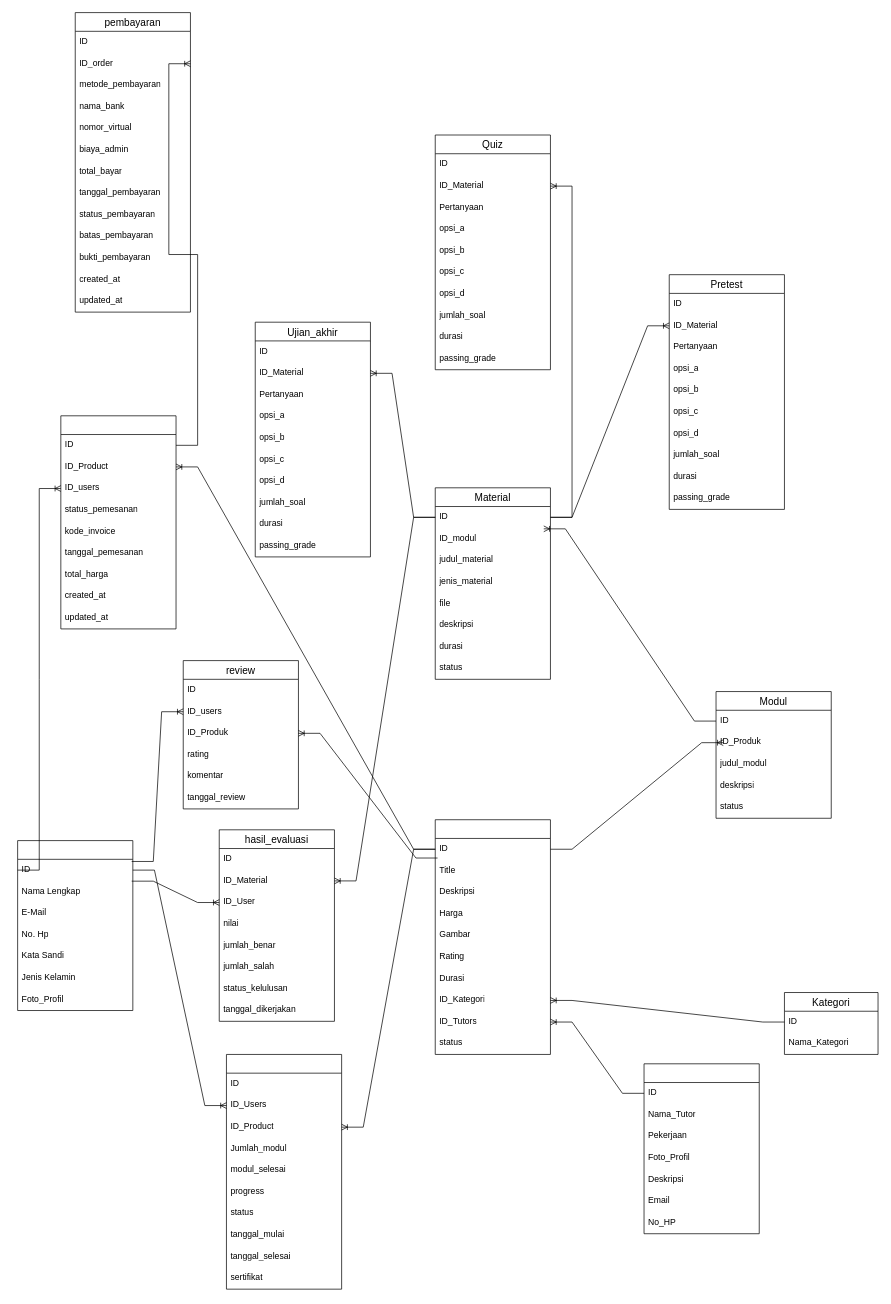
Image size: 891x1304. Some labels were removed from this diagram. The shapes that lost their labels are listed below. From the top down, each one's box as (x1, y1, x2, y2) in pixels, then its label:
(60, 415, 176, 629): order
(17, 840, 133, 1011): users
(435, 819, 550, 1054): Products
(643, 1063, 759, 1234): Tutors
(226, 1054, 342, 1289): Kelas_Saya
